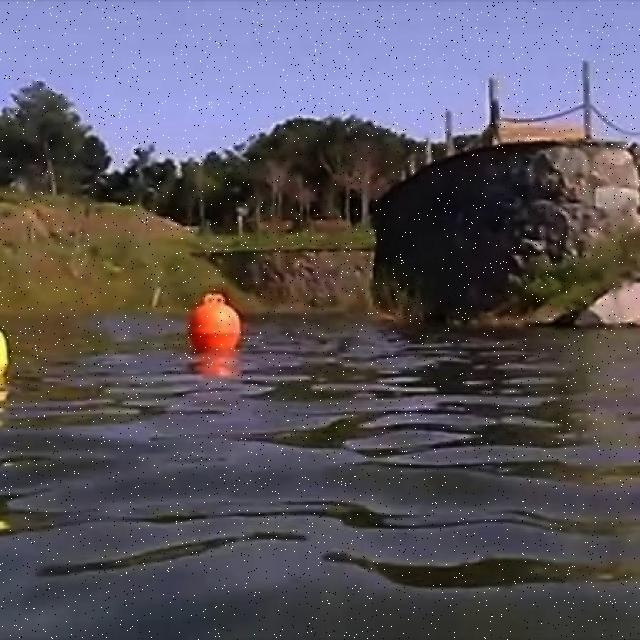buoy: (187, 294, 243, 352)
